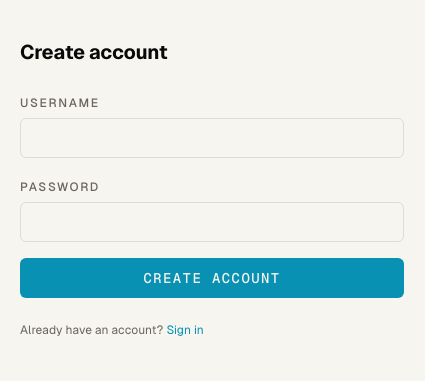
RegisterPage › says the network has hit its registration limit and when it lifts
Type "newcomer" into the field labelled "Username".
click(212, 138); type("newcomer")  # box [20,118,404,158]
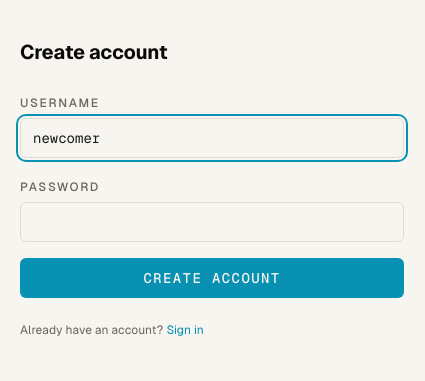
Type "password123" into the password field labelled "Password".
click(212, 222); type("password123")  # box [20,202,404,242]
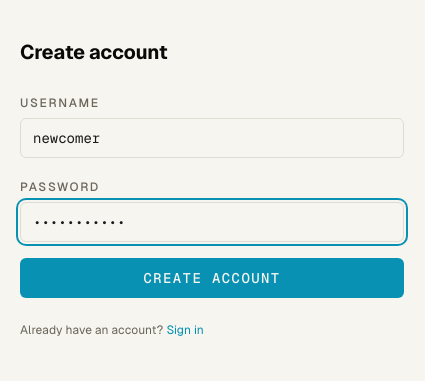
Click the button "Create account".
click(212, 278)  # box [20,258,404,298]
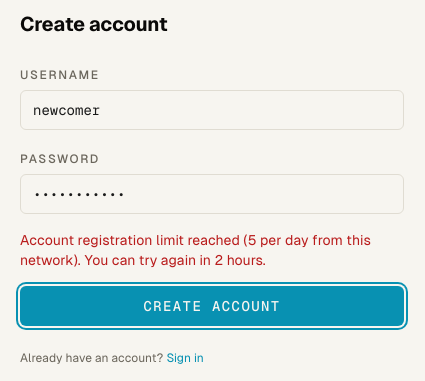
Check: the text "Account registration limit reached (5 per day from this network). You can try again in 2 hours." is shown, box [20,232,371,268]
